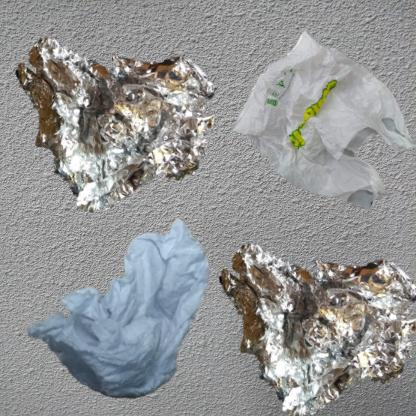aluminio: (10, 10, 236, 227), (213, 213, 416, 416)
bolsa: (213, 10, 416, 243)
papel: (10, 213, 239, 416)
